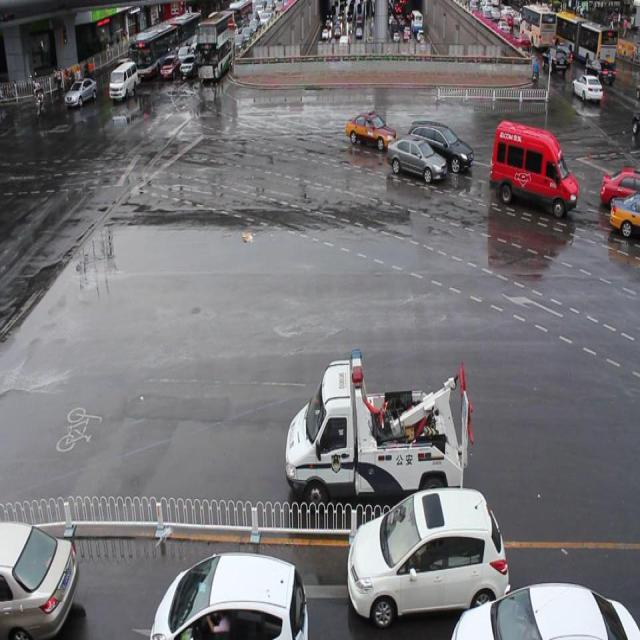bus: (285, 343, 473, 512)
car: (347, 487, 509, 625), (152, 552, 308, 640), (450, 578, 640, 639), (1, 518, 77, 640), (407, 114, 472, 169), (387, 133, 445, 179), (347, 106, 398, 148), (606, 186, 640, 237), (600, 163, 640, 206)
truck: (490, 115, 578, 213)
